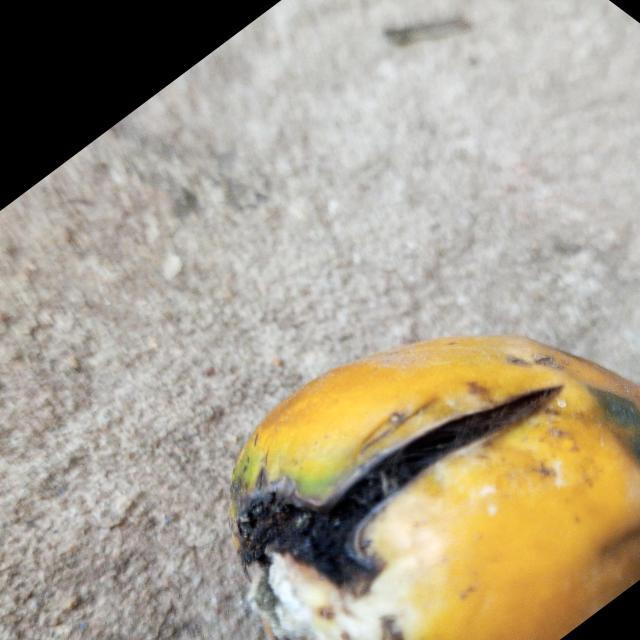damaged: (231, 336, 640, 640)
